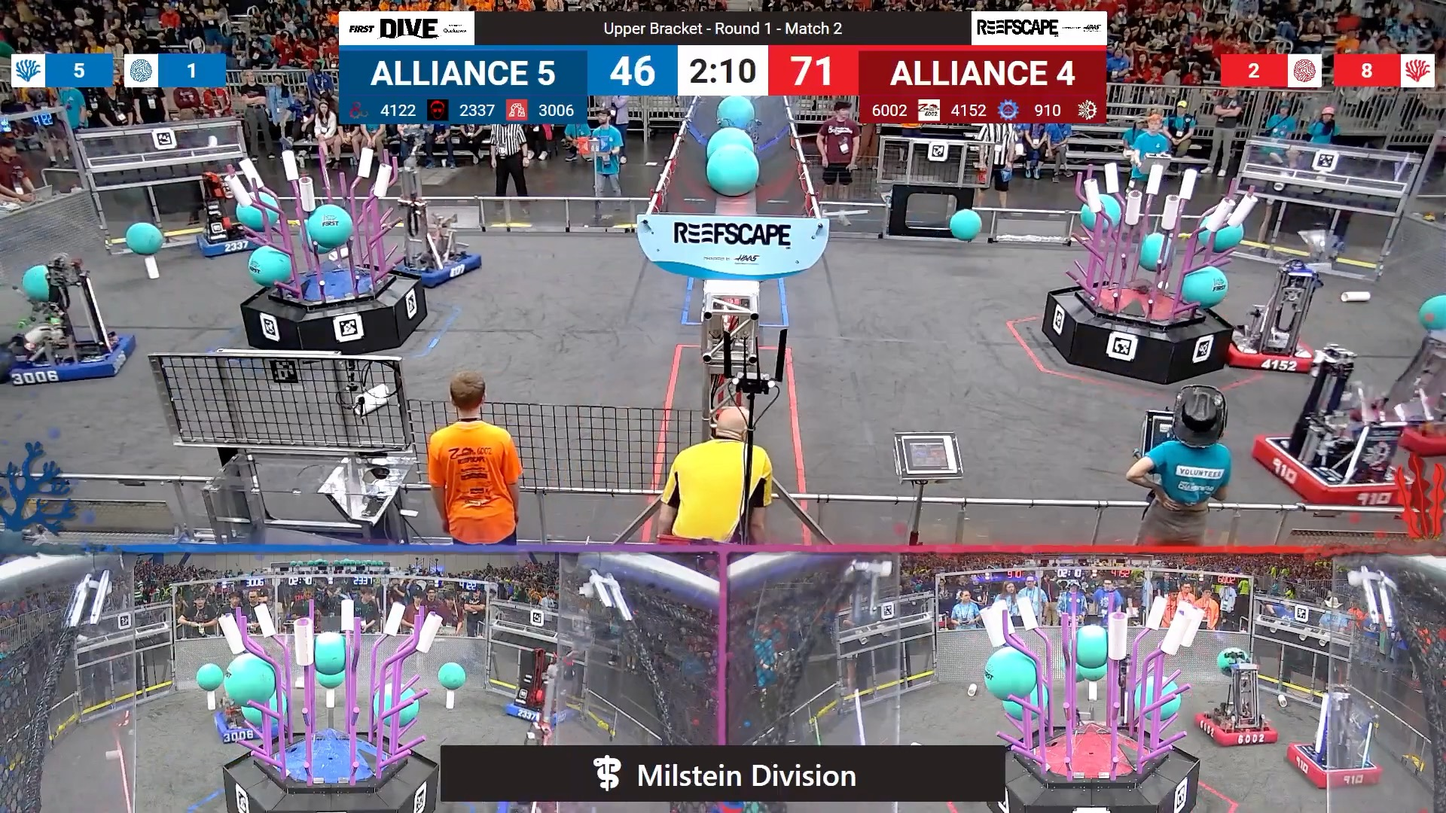bumpers: (1246, 431, 1423, 510), (3, 328, 142, 390), (1219, 325, 1329, 375), (1284, 741, 1389, 793), (385, 248, 487, 288), (1189, 707, 1282, 748), (207, 703, 295, 744), (189, 223, 274, 261), (502, 695, 581, 729)
